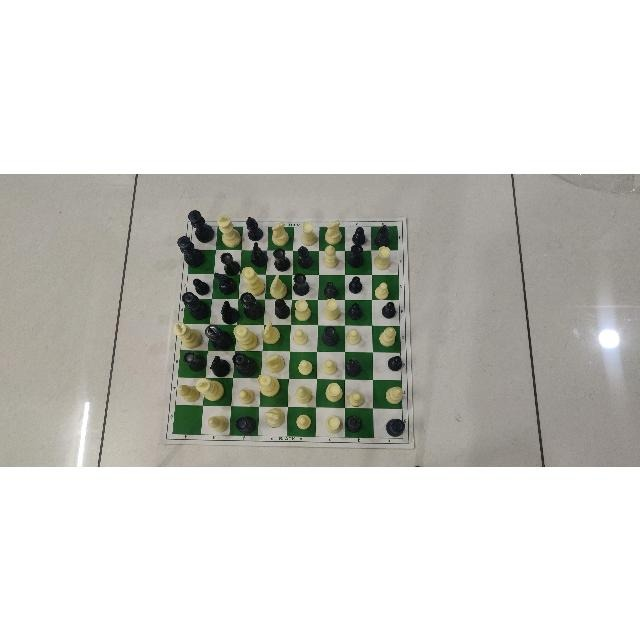black-bishop: (245, 216, 266, 242), (371, 223, 394, 246), (294, 245, 316, 269), (345, 354, 365, 379), (346, 410, 366, 434), (273, 298, 291, 318)
black-king: (187, 208, 215, 241), (178, 235, 206, 267), (205, 323, 233, 349)
black-knight: (213, 268, 237, 295), (217, 299, 240, 325), (247, 241, 269, 266), (210, 353, 230, 377)
black-pawn: (190, 274, 212, 295), (384, 353, 404, 374), (379, 300, 399, 320), (346, 274, 366, 293), (350, 226, 370, 245), (347, 300, 365, 321), (321, 278, 339, 298)
black-queen: (182, 291, 210, 320), (232, 351, 259, 376), (240, 292, 263, 320)
black-rook: (234, 411, 258, 434), (345, 243, 367, 268), (182, 350, 207, 372), (271, 246, 292, 272), (292, 271, 312, 297), (320, 325, 342, 348), (221, 250, 241, 274), (384, 416, 404, 437)
white-bishop: (321, 244, 341, 270), (377, 325, 399, 348), (177, 380, 201, 401), (207, 412, 230, 432), (385, 384, 403, 406), (294, 384, 313, 404)
white-king: (216, 214, 244, 247), (196, 375, 226, 402), (173, 320, 202, 347)
white-knight: (266, 272, 290, 298), (268, 220, 291, 245), (321, 219, 343, 244), (264, 406, 286, 430), (261, 321, 283, 344), (263, 353, 287, 374)
white-pawn: (235, 385, 256, 405), (291, 325, 310, 346), (293, 411, 313, 430), (320, 356, 340, 375), (295, 356, 314, 376), (372, 280, 391, 300), (345, 326, 363, 346), (347, 389, 365, 407)
white-queen: (256, 369, 282, 399), (240, 265, 265, 296), (232, 322, 257, 351)
white-rook: (373, 245, 395, 271), (290, 298, 313, 322), (297, 220, 318, 246), (321, 381, 344, 403), (322, 297, 342, 321), (324, 413, 344, 435)
